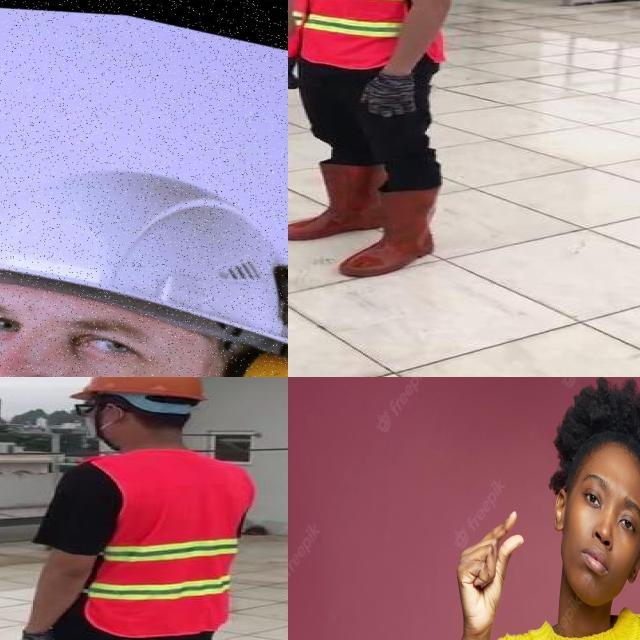No_Ear-Protection: (550, 472, 576, 541)
No_Glasses: (51, 300, 156, 377), (571, 468, 640, 540), (0, 294, 39, 357)
boots: (342, 185, 438, 278), (288, 163, 388, 242)
hand_glove: (360, 71, 426, 119), (288, 50, 306, 88), (12, 630, 58, 640)
head_helmet: (0, 172, 288, 308), (69, 377, 206, 401)
person: (14, 377, 250, 640), (288, 0, 484, 281)
vest: (77, 446, 255, 638), (288, 0, 464, 67)
